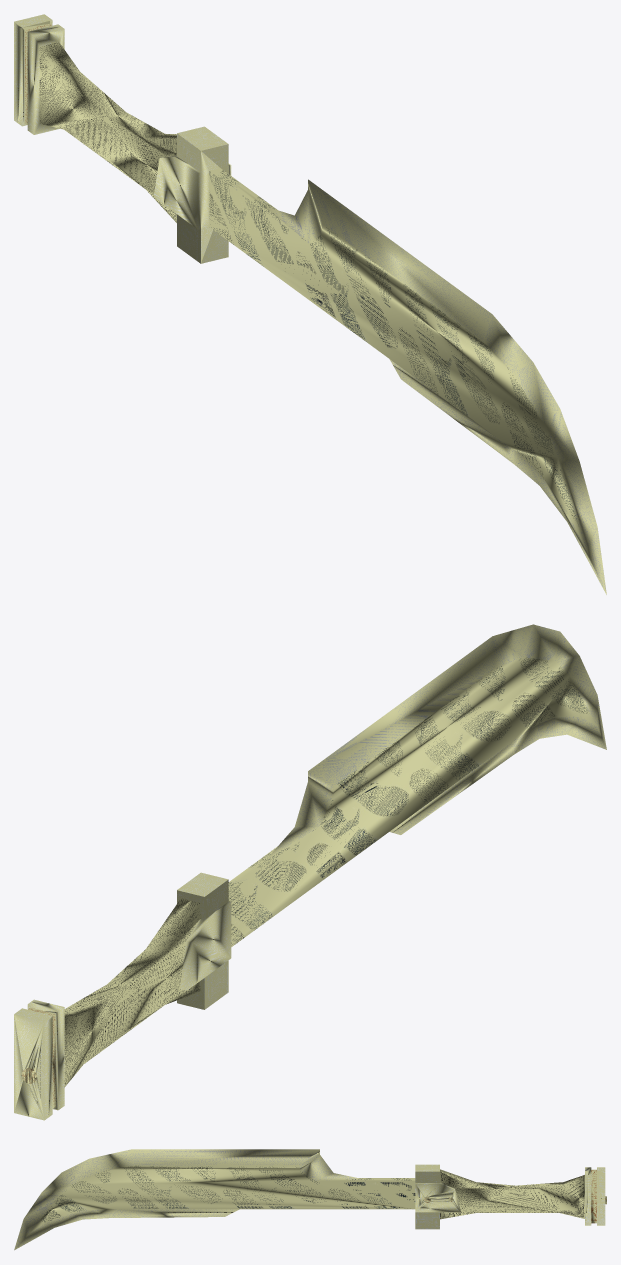
File: model_align.obj
3 views of the same model, one above another, from view 1: azimuth 30°, elevation 25°; view 2: azimuth 150°, elevation 25°; view 3: azimuth 270°, elevation 25° (orthographic). The views are drawn at different scales.
Bounding box in the file's own units: 0.00691 × 0.0376 × 0.1997.
